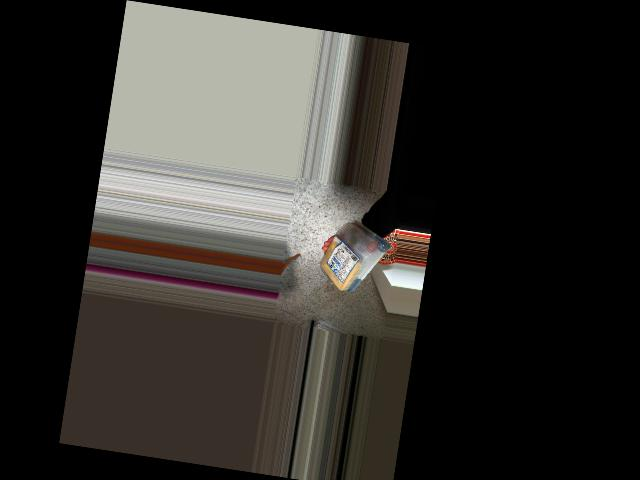cheese: (310, 212, 398, 302)
